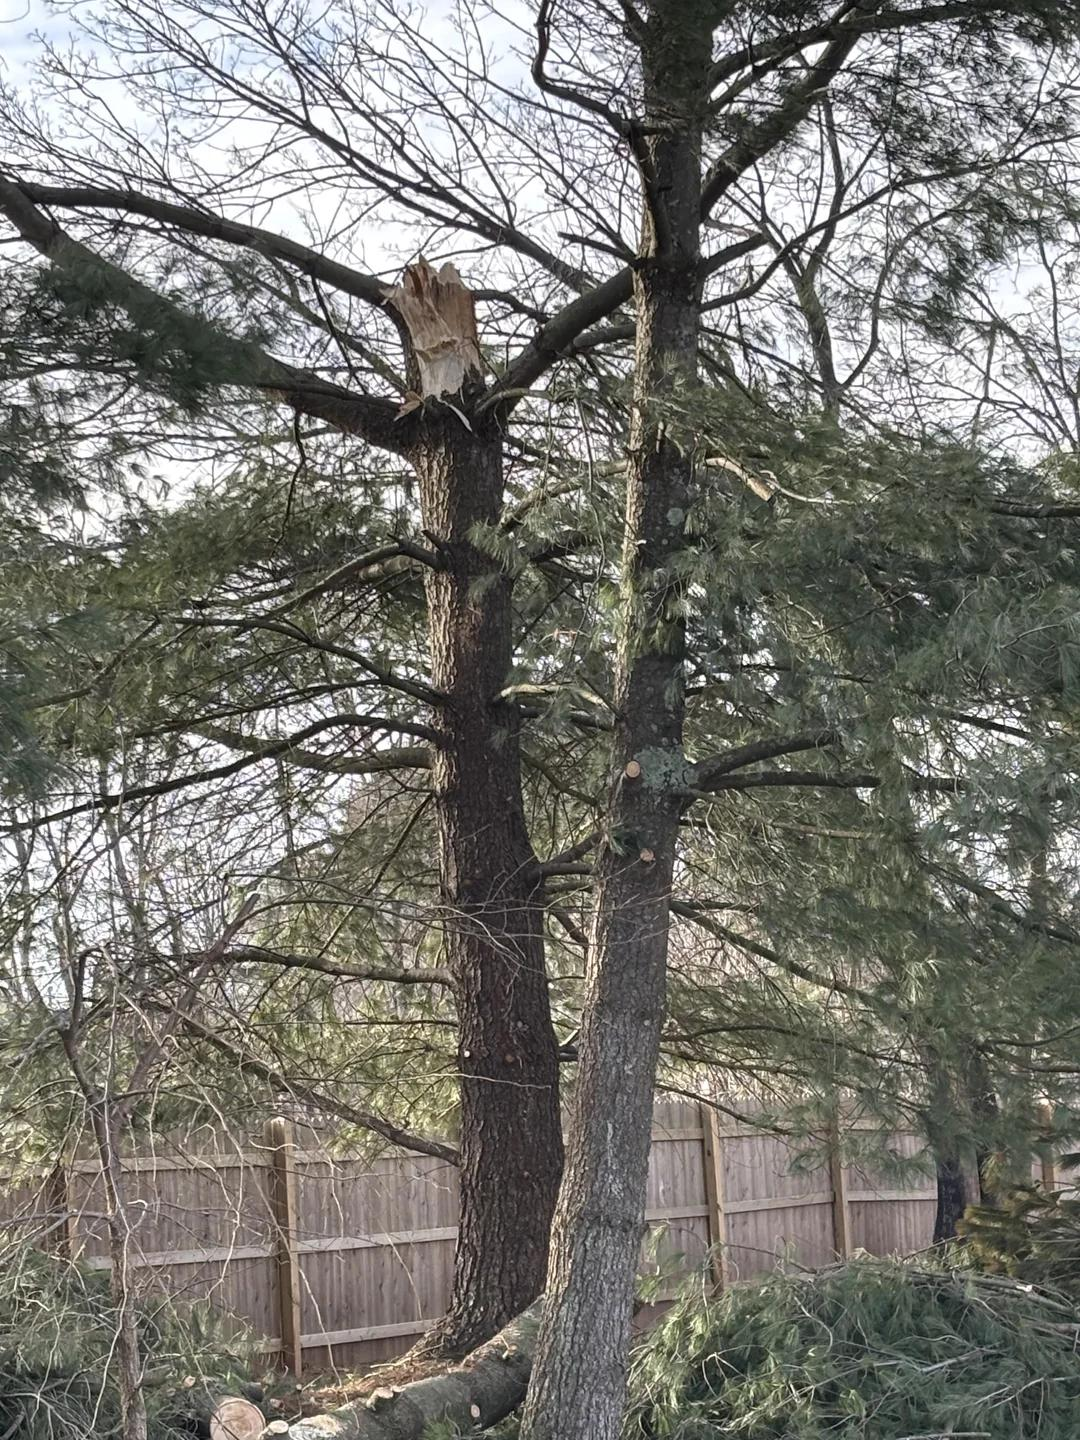mechanical damage: (383, 257, 483, 399)
